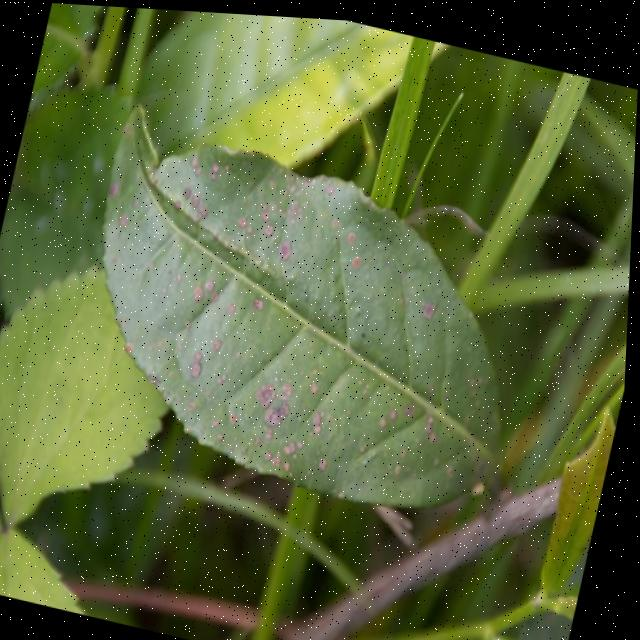Tea algae leaf spot: (77, 108, 512, 522)
